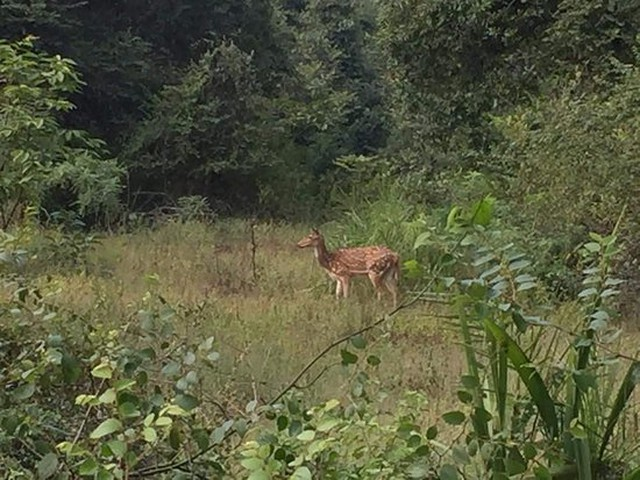deer: (293, 220, 418, 315)
